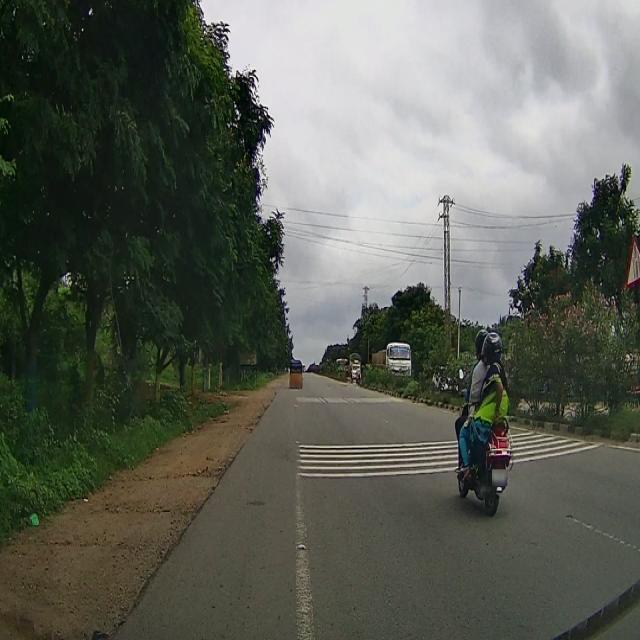gap-in-median: (621, 232, 640, 288)
